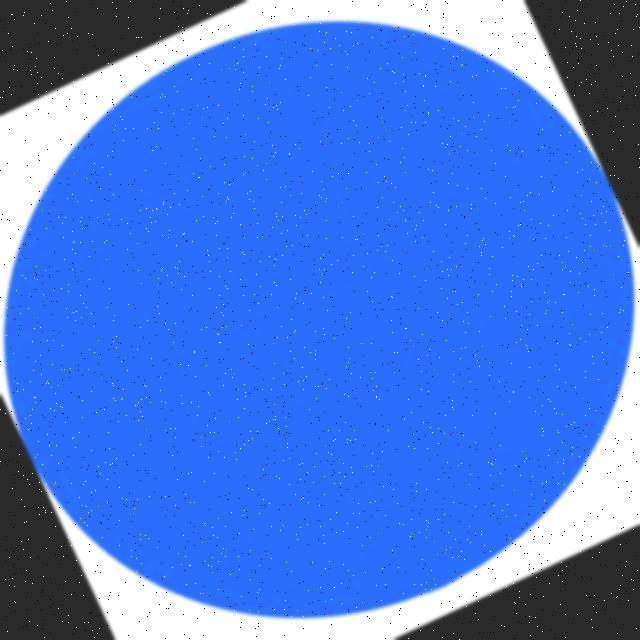Circle: (9, 17, 636, 623)
